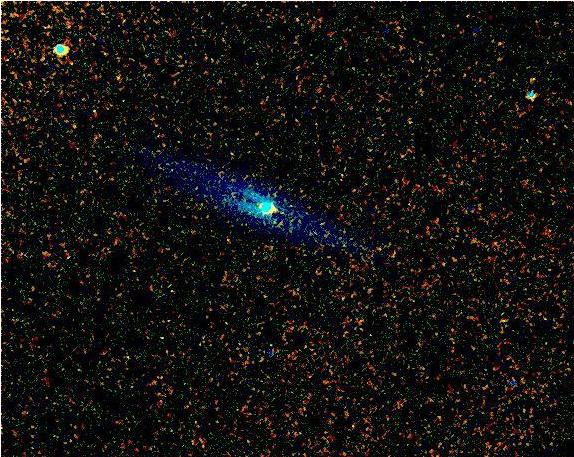star: (493, 71, 523, 101)
